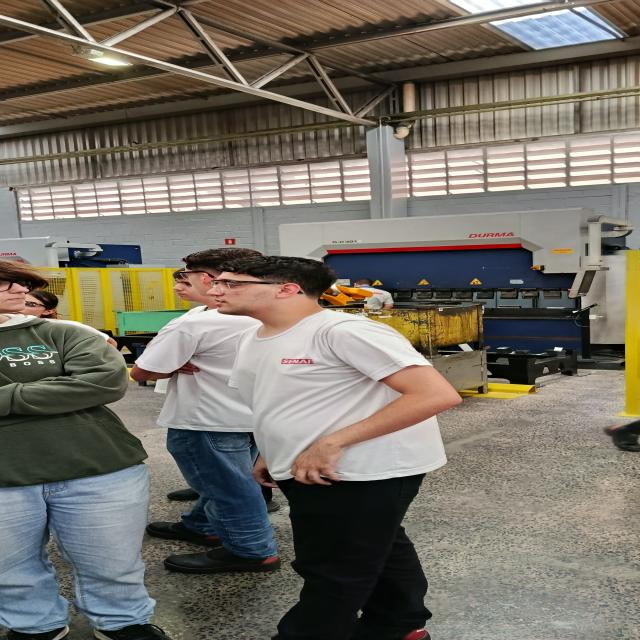oculos-epi: (208, 280, 286, 292), (179, 271, 215, 279), (24, 302, 52, 310)
sem_oculos: (174, 280, 209, 305)
